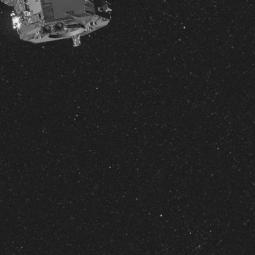lisa_pathfinder: (0, 0, 125, 56)
